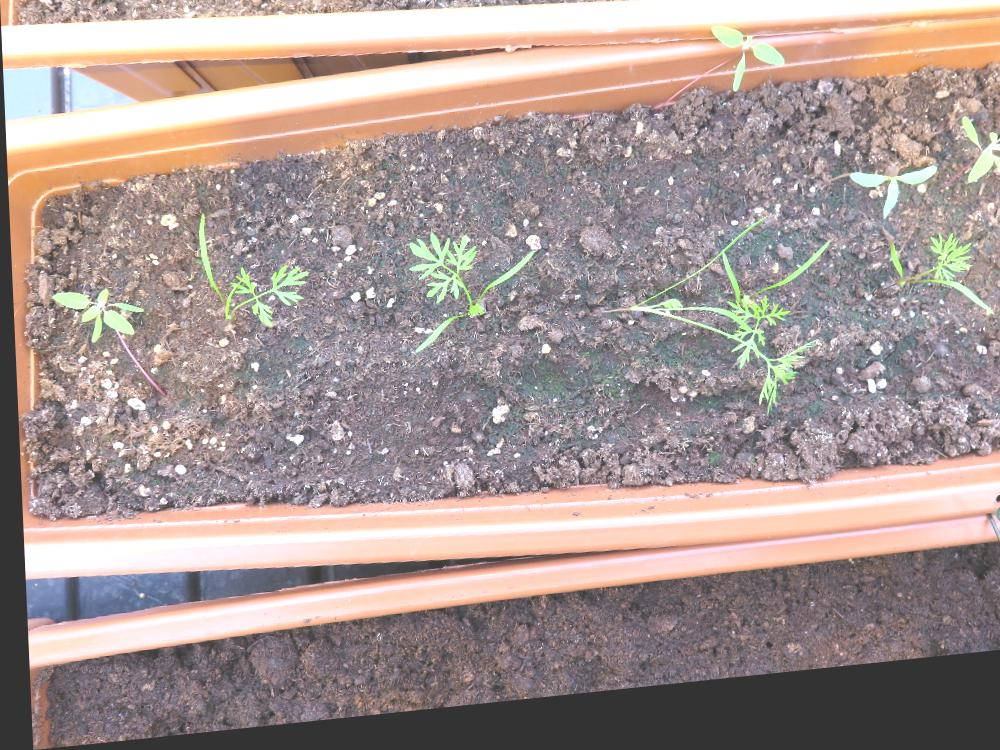crop: (403, 232, 536, 362), (194, 206, 310, 339), (881, 243, 992, 345)
weed: (47, 284, 143, 346), (708, 33, 785, 110), (845, 182, 937, 243)
